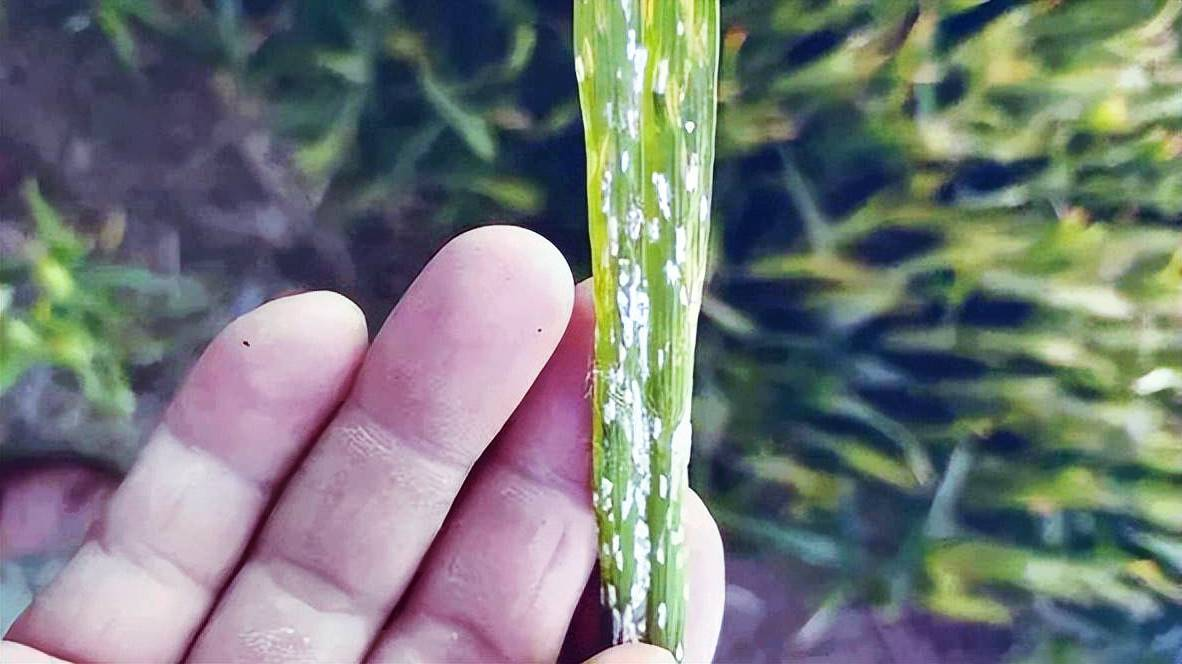Powdery Mildew: (578, 49, 722, 633)
